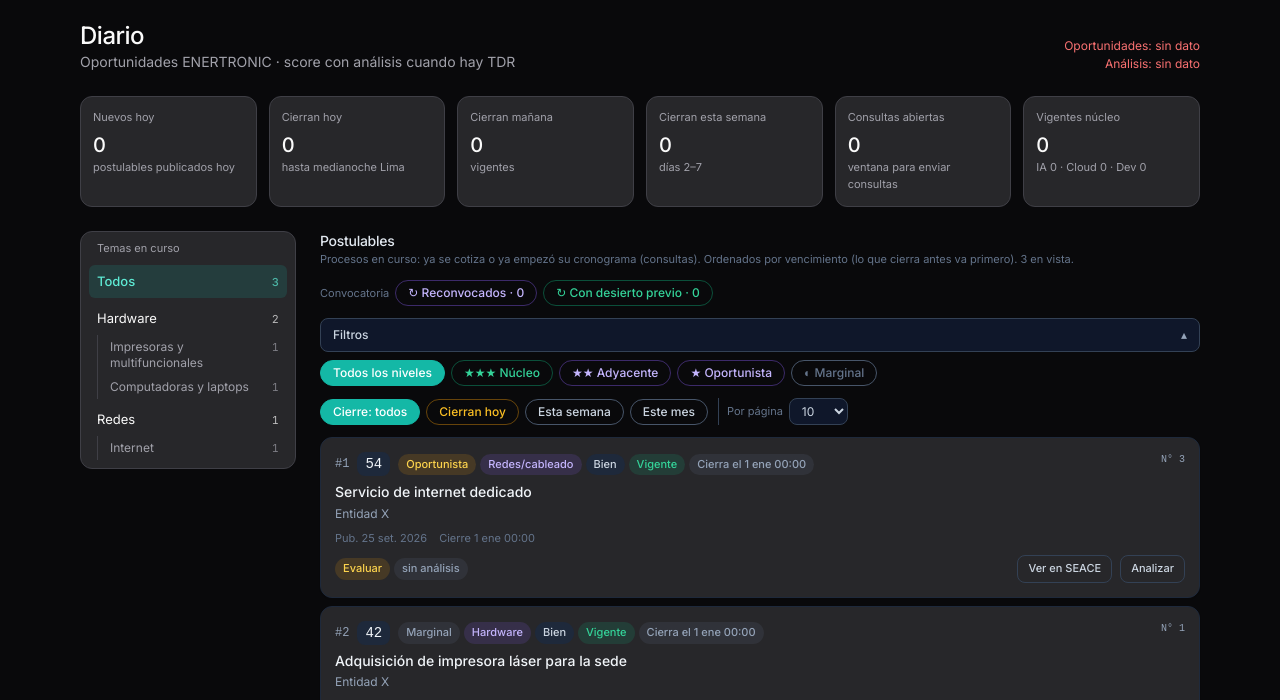
Diario: menú de temas › lista solo las líneas y subtemas con procesos, y un clic filtra
Check: the button "Hardware 2" is shown, box [89,302,287,335]
Check: the button "Redes 1" is shown, box [89,403,287,436]
Click the button "Impresoras y multifuncionales 1" at (194, 355), box [102,335,287,375]
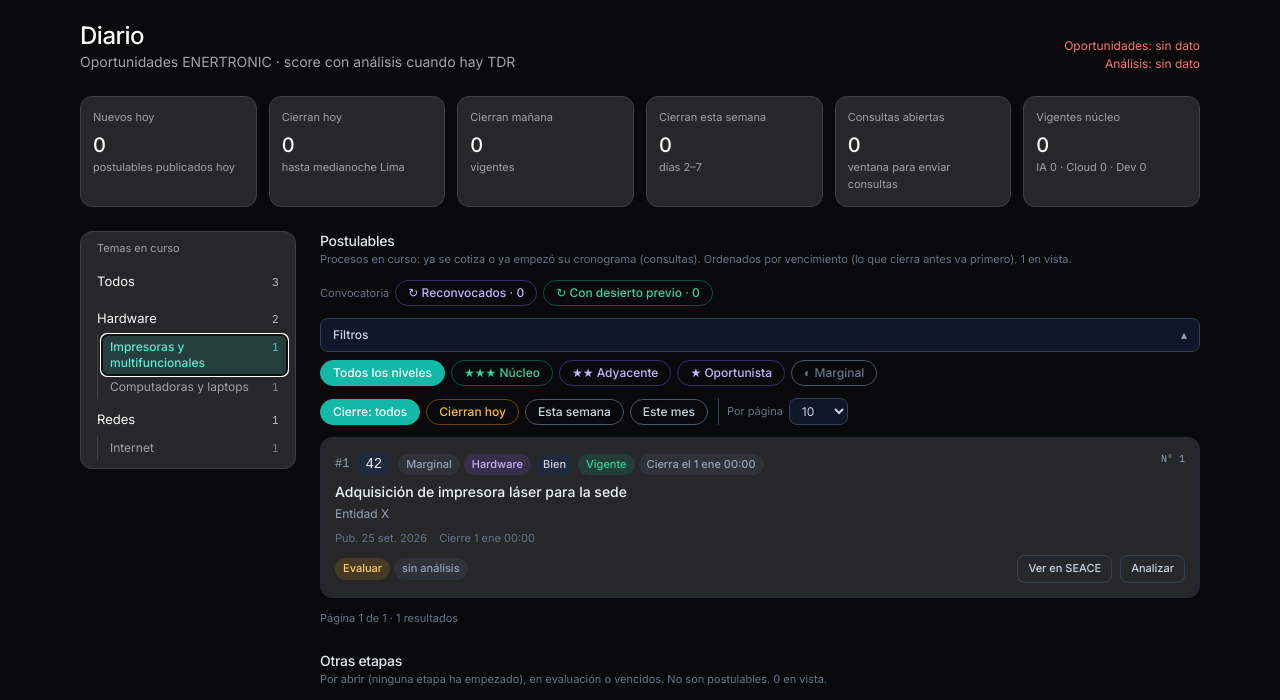
Check: the button "Adquisición de impresora láser para la sede" is shown, box [335,482,1185,502]
Check: the button "internet dedicado" is gone
// Otro toque sobre el subtema elegido vuelve a la línea completa.
Click the button "Impresoras y multifuncionales 1" at (194, 355), box [102,335,287,375]
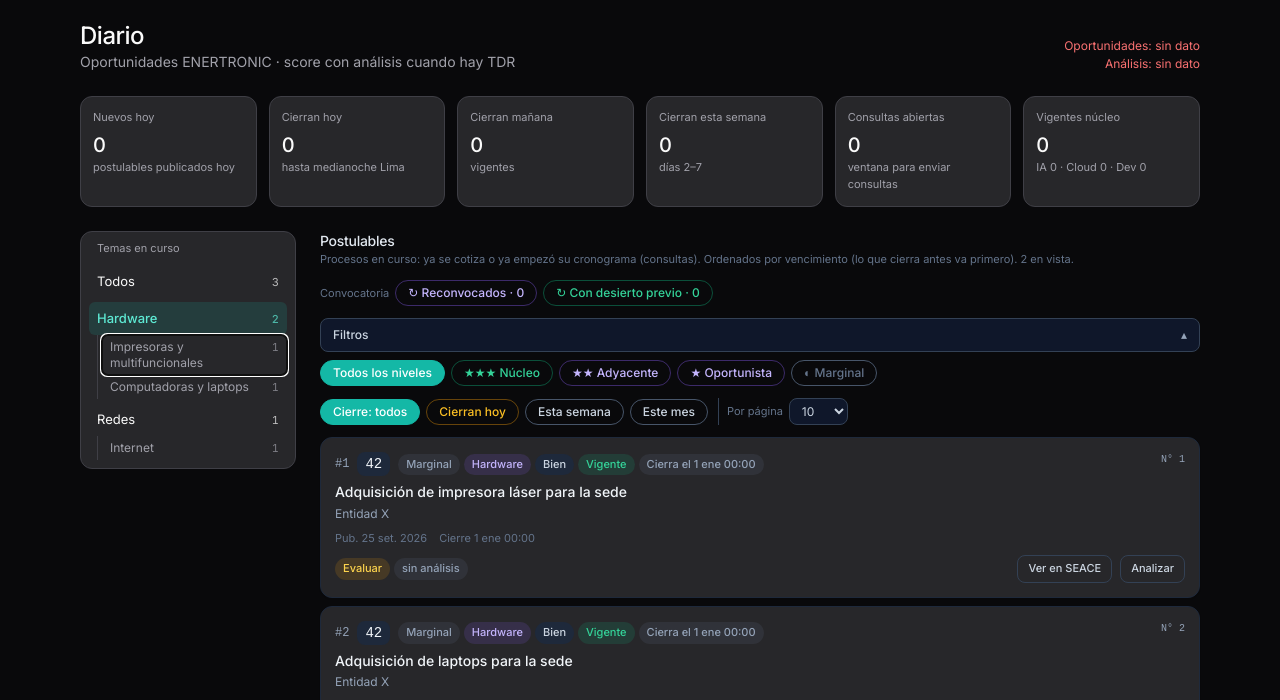
Check: the button "internet dedicado" is not shown
Check: the button "Adquisición de laptops para la sede" is shown, box [335,651,1185,670]
Click the button "Todos 3" at (188, 282), box [89,265,287,298]
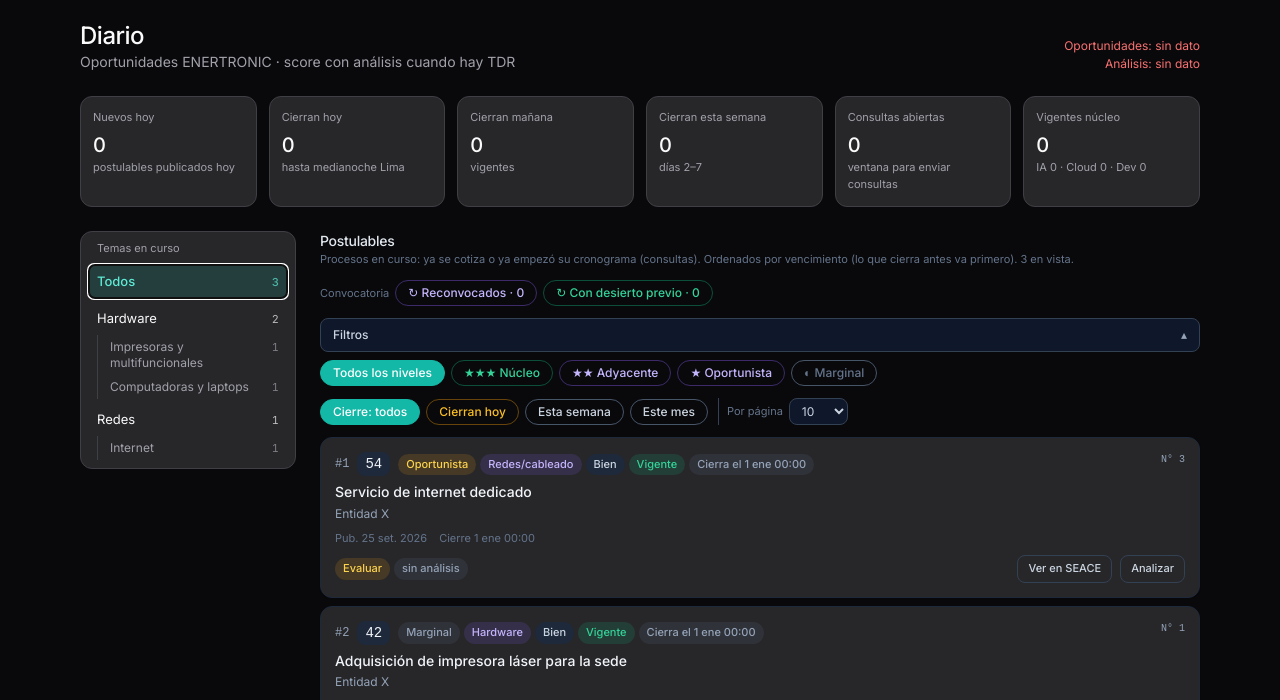
Check: the button "Servicio de internet dedicado" is shown, box [335,482,1185,502]
